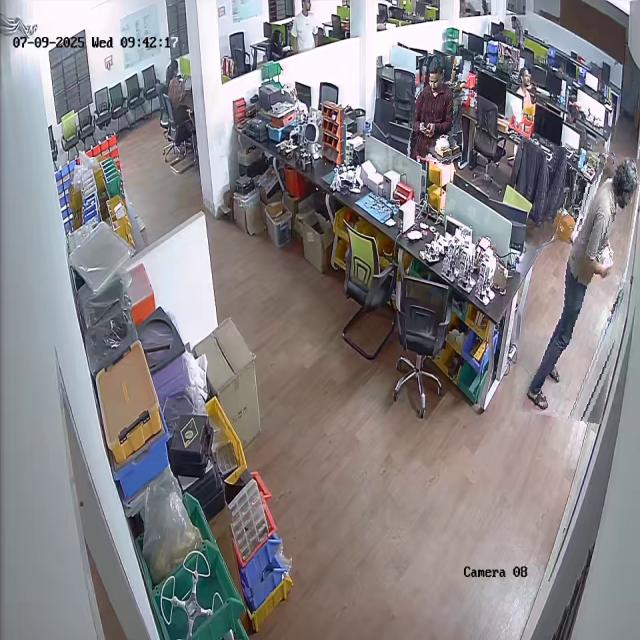person: (523, 148, 633, 422), (411, 54, 467, 164)
